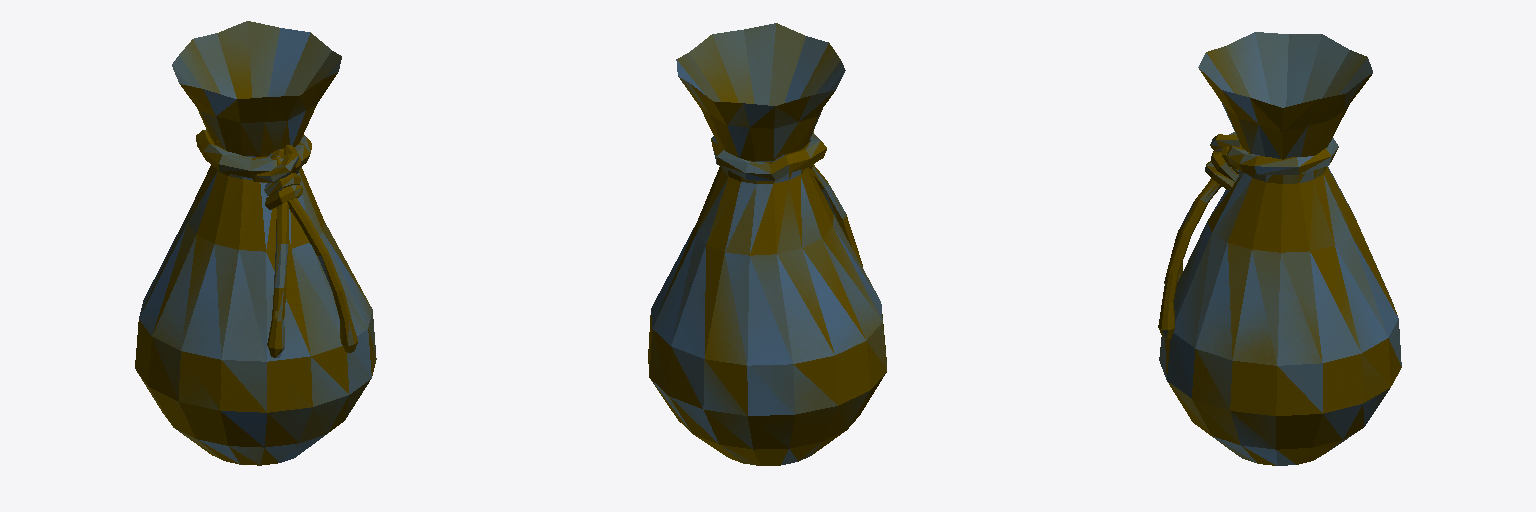
3 views of the same model, side by side, from view 1: azimuth 30°, elevation 25°; view 2: azimuth 150°, elevation 25°; view 3: azimuth 270°, elevation 25° (orthographic).
Parts seen in each view (by area): view 1: Sack; view 2: Sack; view 3: Sack.
Part boxes in pixels (x1,y1,x2,y2): Sack: (135, 21, 376, 465); Sack: (648, 23, 886, 465); Sack: (1158, 32, 1401, 465).
Size of the model in its own units: 1.15 by 2.06 by 1.15.
1 materials, 1 textured.